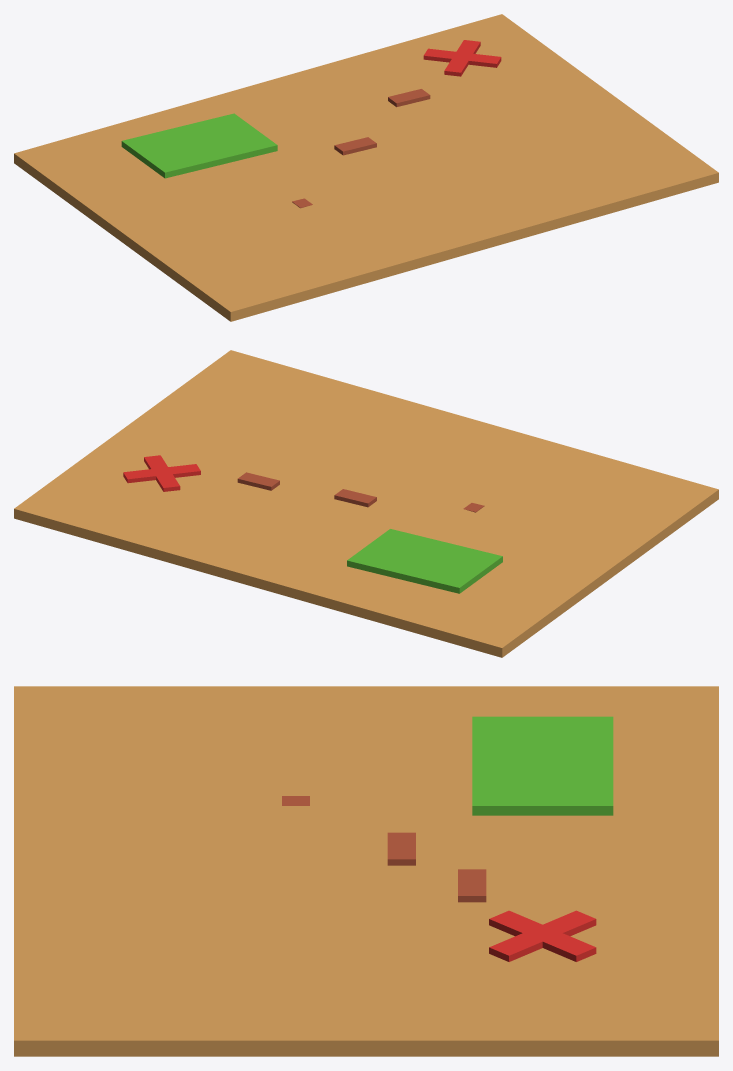
The model's file is TreasureMap.fbx.
3 renders of one model, top to bottom at view 1: azimuth 30°, elevation 25°; view 2: azimuth 150°, elevation 25°; view 3: azimuth 270°, elevation 25°, orthographic. The views are drawn at different scales.
Visible parts, largest first — view 1: TreasureMap; view 2: TreasureMap; view 3: TreasureMap.
Boxes of the visible parts, x1=… form: TreasureMap: x1=14, y1=14, x2=718, y2=321; TreasureMap: x1=14, y1=350, x2=718, y2=657; TreasureMap: x1=14, y1=686, x2=718, y2=1056.
Size of the model in its own units: 2.6 by 0.2566 by 2.
Materials: 1 (1 with a texture image).
